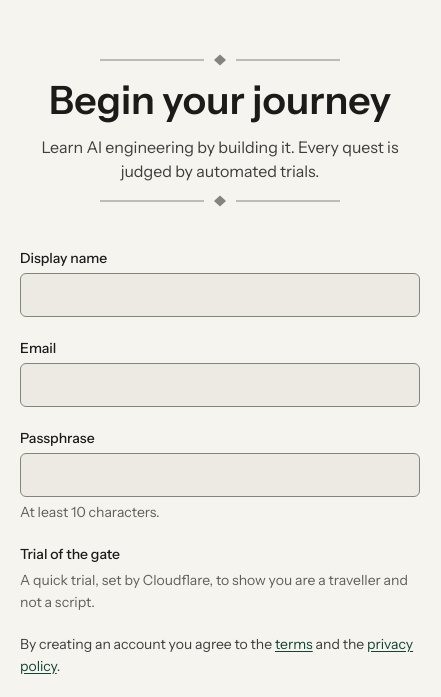
Test: AuthPage › renders Turnstile when a site key is configured and sends its token
This screenshot has width=441, height=697.
Expected: the element "Trial of the gate" is shown, [20,543,420,613]
Type "A" into the field labelled "Display name" at (220, 295), box [20,273,420,317]
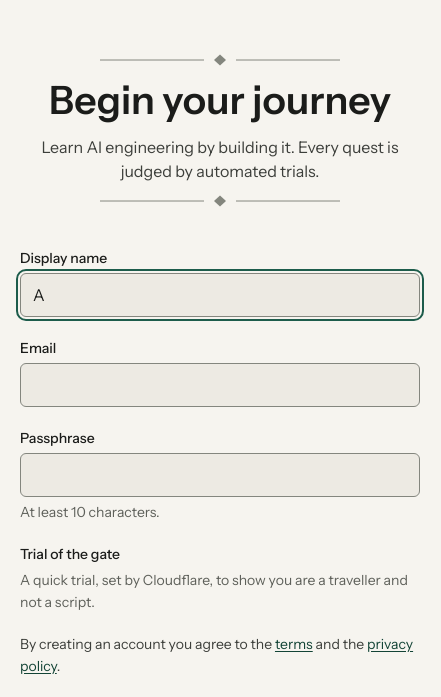
Type "a@example.com" into the field labelled "Email" at (220, 385), box [20,363,420,407]
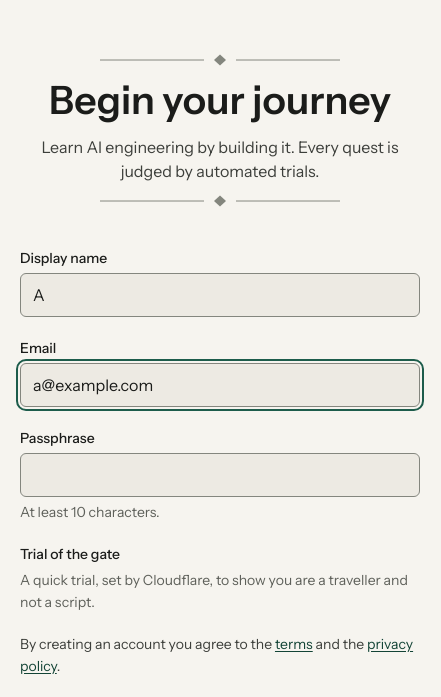
Type "correct horse battery" into the password field labelled "Passphrase" at (220, 475), box [20,453,420,497]
(page scrolled)
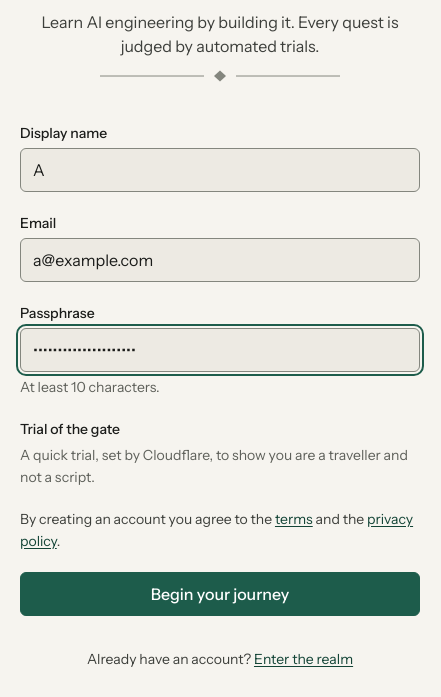
Click the button "Begin your journey" at (220, 594), box [20,572,420,616]
(page scrolled)
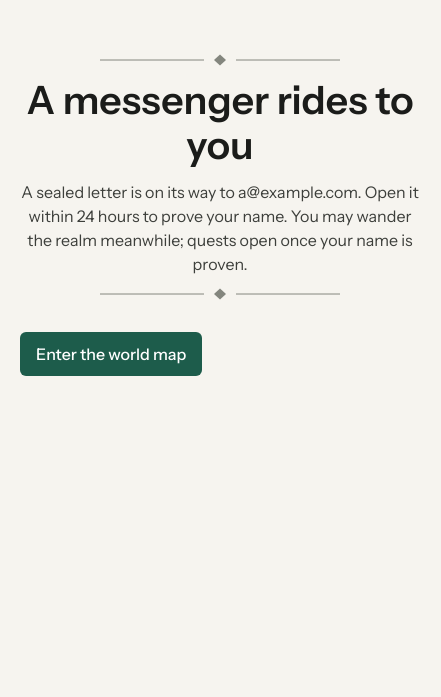
Result: the heading "A messenger rides to you" is shown at [20,78,420,168]
